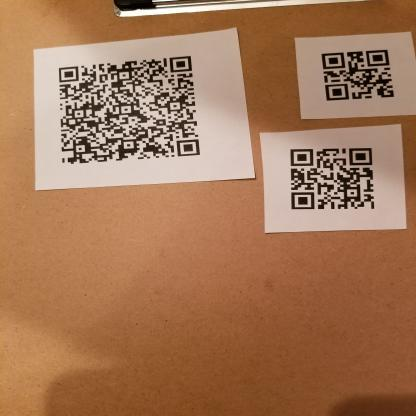qr: (54, 52, 200, 165), (282, 143, 381, 212), (318, 44, 401, 103)
